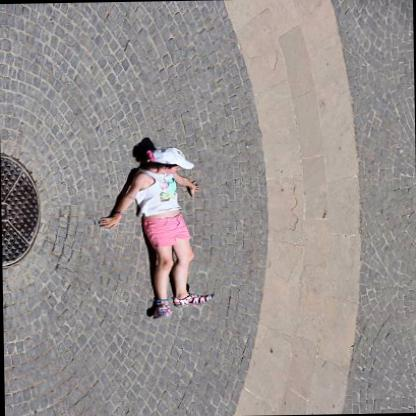manholes: (0, 124, 64, 281)
